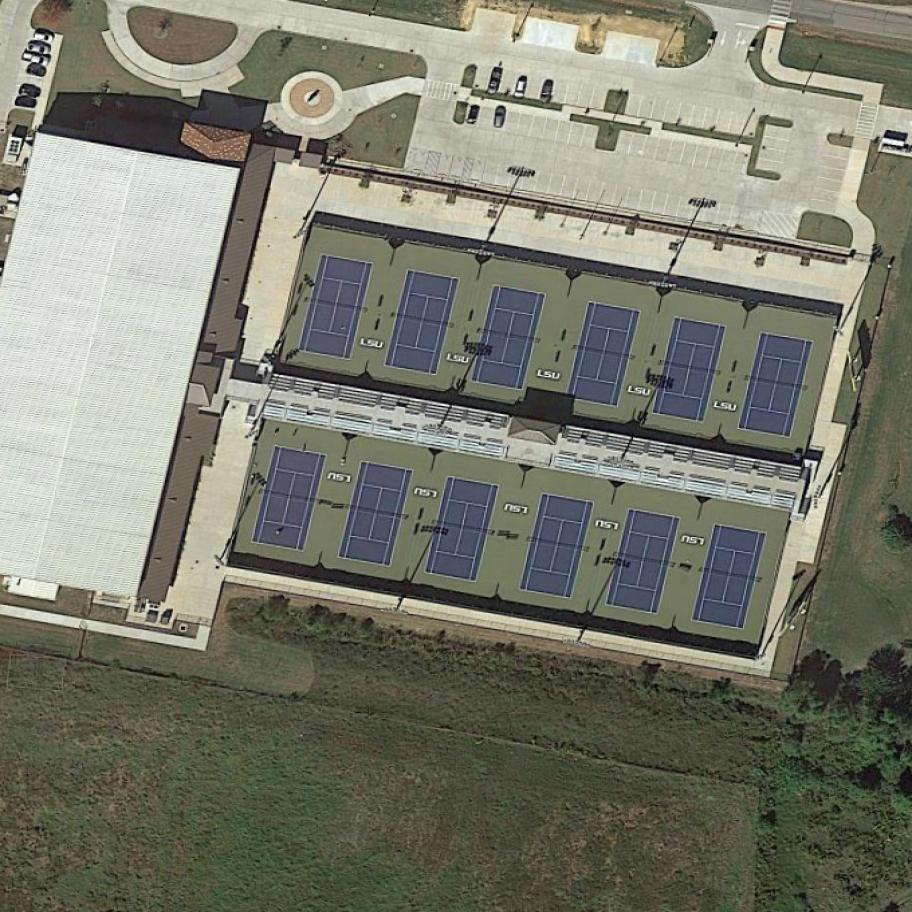small-vehicle: (20, 51, 52, 68), (464, 102, 483, 128), (539, 79, 557, 105), (492, 105, 510, 128), (23, 41, 51, 55), (514, 74, 530, 97), (19, 84, 43, 98), (25, 63, 49, 77), (15, 96, 38, 109), (32, 32, 55, 45)
